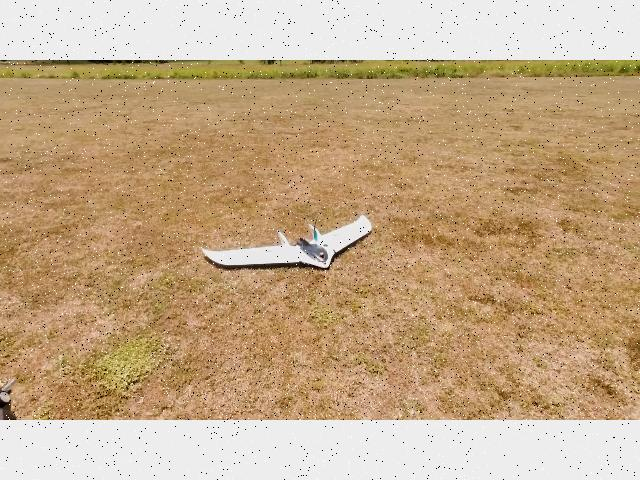Anti-Drone: (191, 194, 377, 295)
